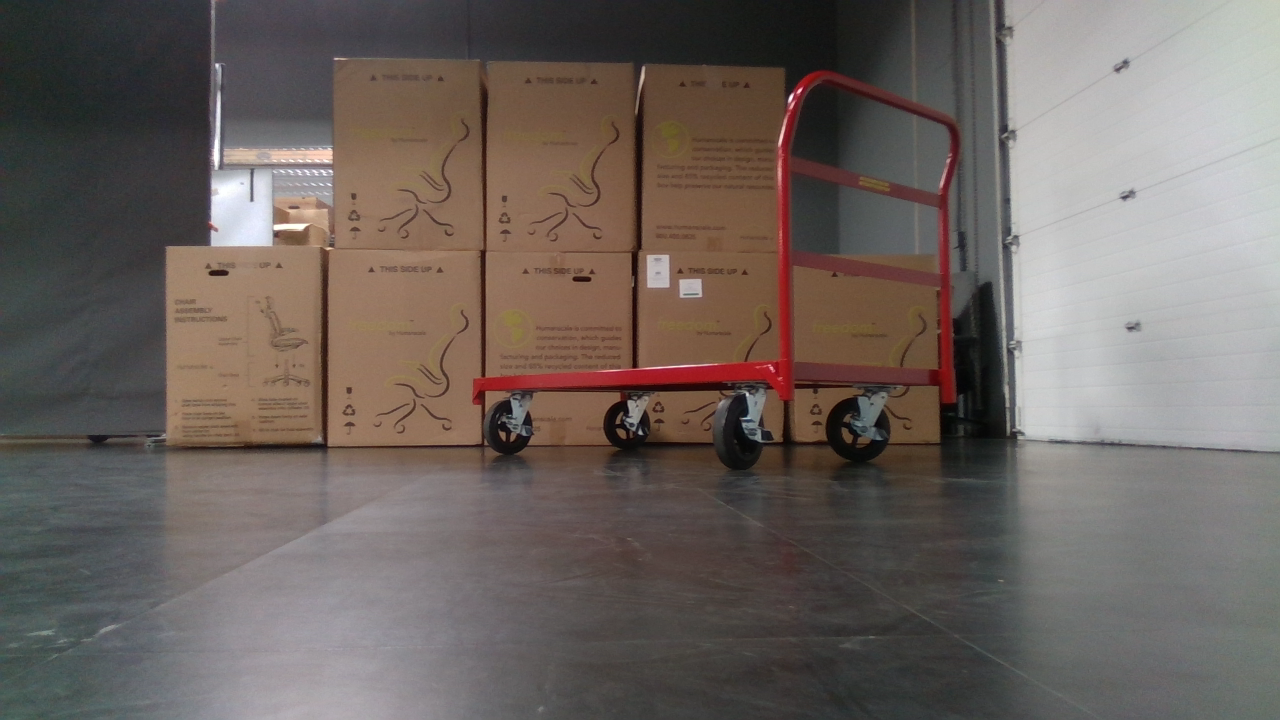Dolly: (461, 68, 963, 459)
Wheel: (821, 391, 898, 461), (709, 389, 772, 468), (604, 389, 654, 453), (481, 398, 538, 454)
